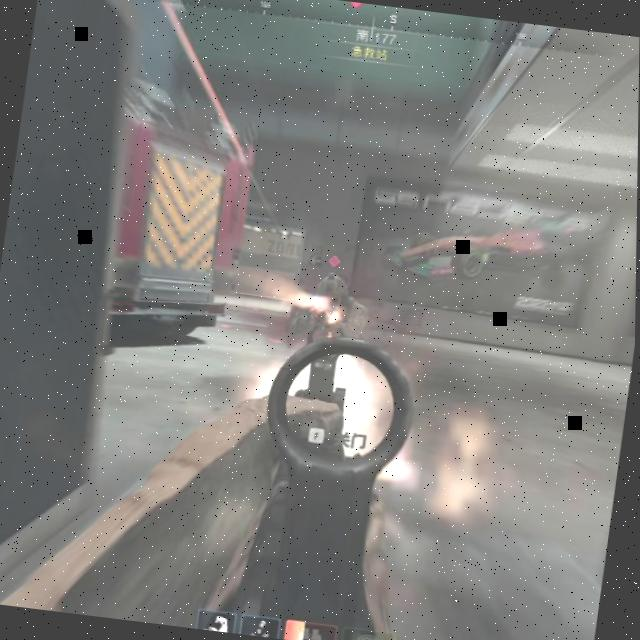MW2_body: (286, 250, 374, 344)
